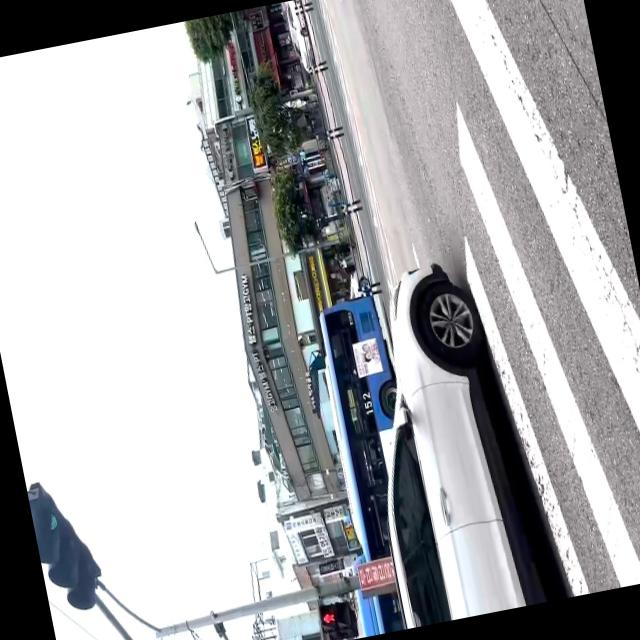building: (202, 107, 344, 504)
car: (336, 252, 548, 630), (283, 0, 317, 76)
